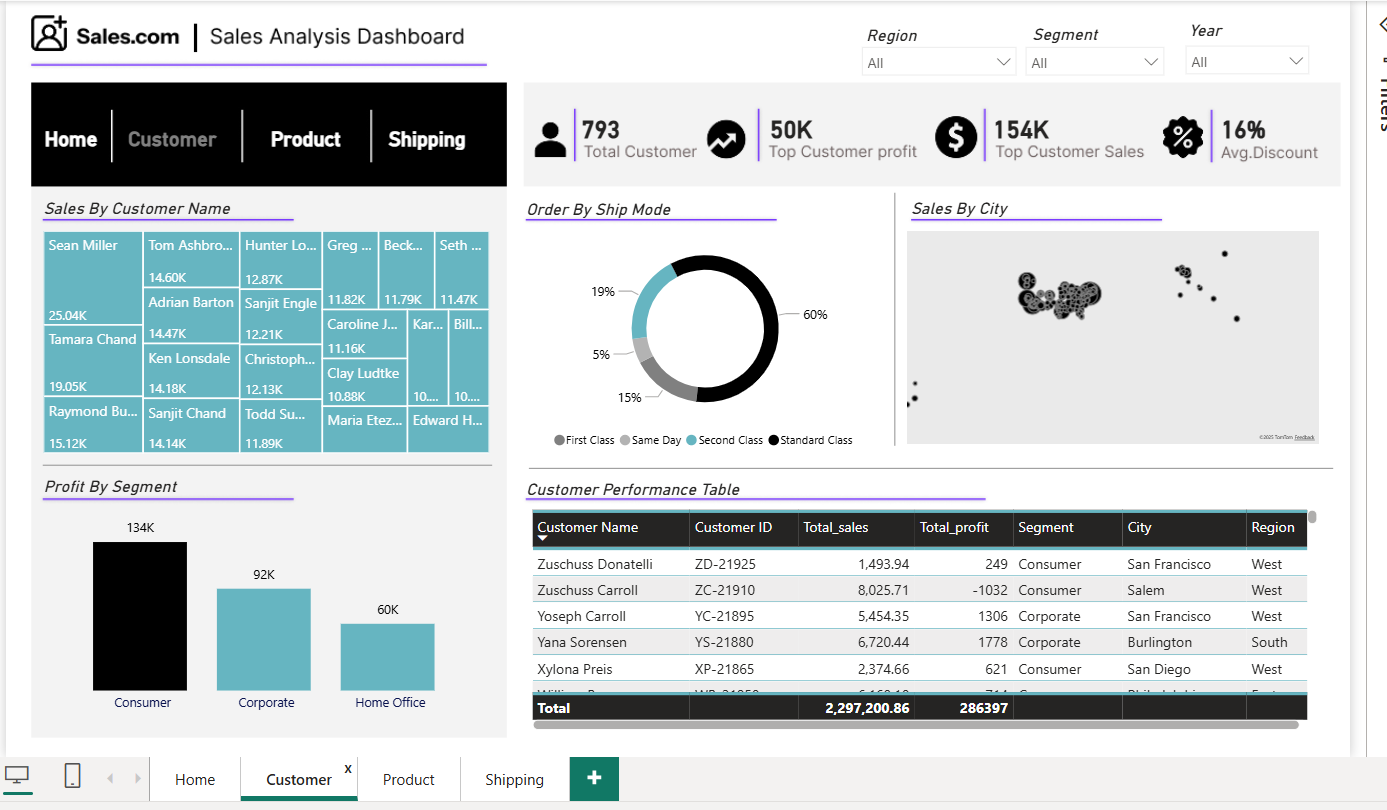

What the dashboard file says about the page in this screenshot:
{"tool":"powerbi","page":{"name":"Customer","canvas":[1280,720],"ordinal":1},"visuals":[{"type":"card","fields":{"Values":["DAX Measure.Total_Customer"]},"box":[529.8,104.8,73.8,34.5],"z":0},{"type":"card","fields":{"Values":["DAX Measure.Top_Customer_Profit"]},"box":[701.2,104.8,92.9,34.5],"z":1000},{"type":"card","fields":{"Values":["DAX Measure.Top_Customer_Sales"]},"box":[909.5,104.8,114.3,34.5],"z":2000},{"type":"card","fields":{"Values":["DAX Measure.Avg_discount"]},"box":[1132.1,104.8,92.9,34.5],"z":3000},{"type":"actionButton","title":"Home","box":[11.9,120.2,100,40.5],"z":4000},{"type":"actionButton","title":"Customer","box":[108.3,120.2,100,40.5],"z":5000},{"type":"actionButton","title":"Product","box":[235.7,120.2,100,40.5],"z":6000},{"type":"actionButton","title":"Shipping","box":[351.2,120.2,100,40.5],"z":7000},{"type":"azureMap","fields":{"Category":["CustomerDim.City"],"Size":["DAX Measure.Total_sales"]},"box":[853.6,214.3,402.4,211.9],"z":8000},{"type":"textbox","title":"Sales By City","box":[857.1,188.1,166.7,26.2],"z":9000},{"type":"tableEx","fields":{"Values":["CustomerDim.Customer Name","CustomerDim.Customer ID","DAX Measure.Total_sales","DAX Measure.Total_profit","CustomerDim.Segment","CustomerDim.City","CustomerDim.Region"]},"box":[495.2,479.8,758.3,219],"z":10000},{"type":"textbox","title":"Customer Performance Table","box":[490.5,456,257.1,23.8],"z":11000},{"type":"treemap","fields":{"Group":["CustomerDim.Customer Name"],"Values":["DAX Measure.Total_sales"]},"box":[31,214.3,434.5,221.4],"z":12000},{"type":"textbox","title":"Sales By Customer Name","box":[31,188.1,217.9,26.2],"z":13000},{"type":"clusteredColumnChart","fields":{"Category":["CustomerDim.Segment"],"Y":["DAX Measure.Total_profit"]},"box":[31,479.8,434.5,207.1],"z":14000},{"type":"textbox","title":"Profit By Segment","box":[31,453.6,166.7,26.2],"z":15000},{"type":"donutChart","fields":{"Series":["Sales.Ship Mode"],"Y":["Sales.Order ID"]},"box":[495.2,215.5,341.7,220.2],"z":16000},{"type":"textbox","title":"Order By Ship Mode","box":[490.5,189.3,176.2,26.2],"z":17000},{"type":"textbox","title":"Year","box":[1121.4,19,60.7,26.2],"z":18000},{"type":"slicer","fields":{"Values":["DateDim.Order Date.Variation.Date Hierarchy.Year"]},"box":[1113.1,32.1,138.1,48.8],"z":19000},{"type":"textbox","title":"Segment","box":[972.6,22.6,85.7,27.4],"z":20000},{"type":"slicer","fields":{"Values":["Sales.Ship Mode"]},"box":[960.7,33.3,152.4,48.8],"z":21000},{"type":"textbox","title":"Region","box":[814.3,23.8,150,26.2],"z":22000},{"type":"slicer","fields":{"Values":["ProductDim.Sub-Category"]},"box":[804.8,33.3,167.9,42.9],"z":23000}]}

Visuals, with their boxes on the page's 1280x720 design canvas (x1, y1, x2, y2). These are canvas units, not pixel positions in the 1387x810 screenshot, which may show the page scaled, cropped or inside an application window:
card - DAX Measure.Total_Customer: crop(530, 105, 604, 139)
card - DAX Measure.Top_Customer_Profit: crop(701, 105, 794, 139)
card - DAX Measure.Top_Customer_Sales: crop(910, 105, 1024, 139)
card - DAX Measure.Avg_discount: crop(1132, 105, 1225, 139)
"Home" actionButton: crop(12, 120, 112, 161)
"Customer" actionButton: crop(108, 120, 208, 161)
"Product" actionButton: crop(236, 120, 336, 161)
"Shipping" actionButton: crop(351, 120, 451, 161)
azureMap - CustomerDim.City x DAX Measure.Total_sales: crop(854, 214, 1256, 426)
"Sales By City" textbox: crop(857, 188, 1024, 214)
tableEx - CustomerDim.Customer Name x CustomerDim.Customer ID: crop(495, 480, 1254, 699)
"Customer Performance Table" textbox: crop(490, 456, 748, 480)
treemap - CustomerDim.Customer Name x DAX Measure.Total_sales: crop(31, 214, 466, 436)
"Sales By Customer Name" textbox: crop(31, 188, 249, 214)
clusteredColumnChart - CustomerDim.Segment x DAX Measure.Total_profit: crop(31, 480, 466, 687)
"Profit By Segment" textbox: crop(31, 454, 198, 480)
donutChart - Sales.Ship Mode x Sales.Order ID: crop(495, 216, 837, 436)
"Order By Ship Mode" textbox: crop(490, 189, 667, 216)
"Year" textbox: crop(1121, 19, 1182, 45)
slicer - DateDim.Order Date.Variation.Date Hierarchy.Year: crop(1113, 32, 1251, 81)
"Segment" textbox: crop(973, 23, 1058, 50)
slicer - Sales.Ship Mode: crop(961, 33, 1113, 82)
"Region" textbox: crop(814, 24, 964, 50)
slicer - ProductDim.Sub-Category: crop(805, 33, 973, 76)
